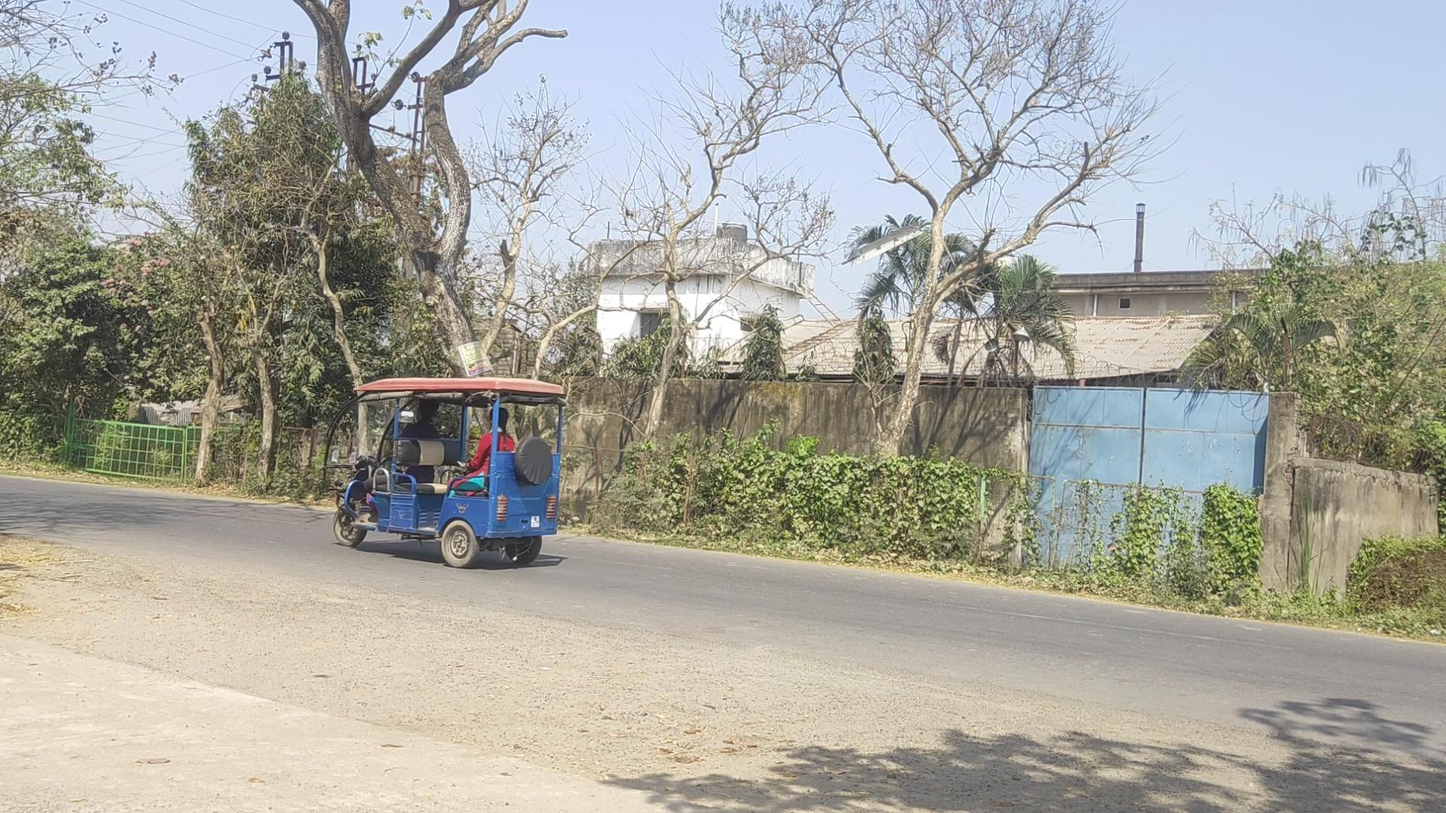Auto: (322, 376, 566, 569)
